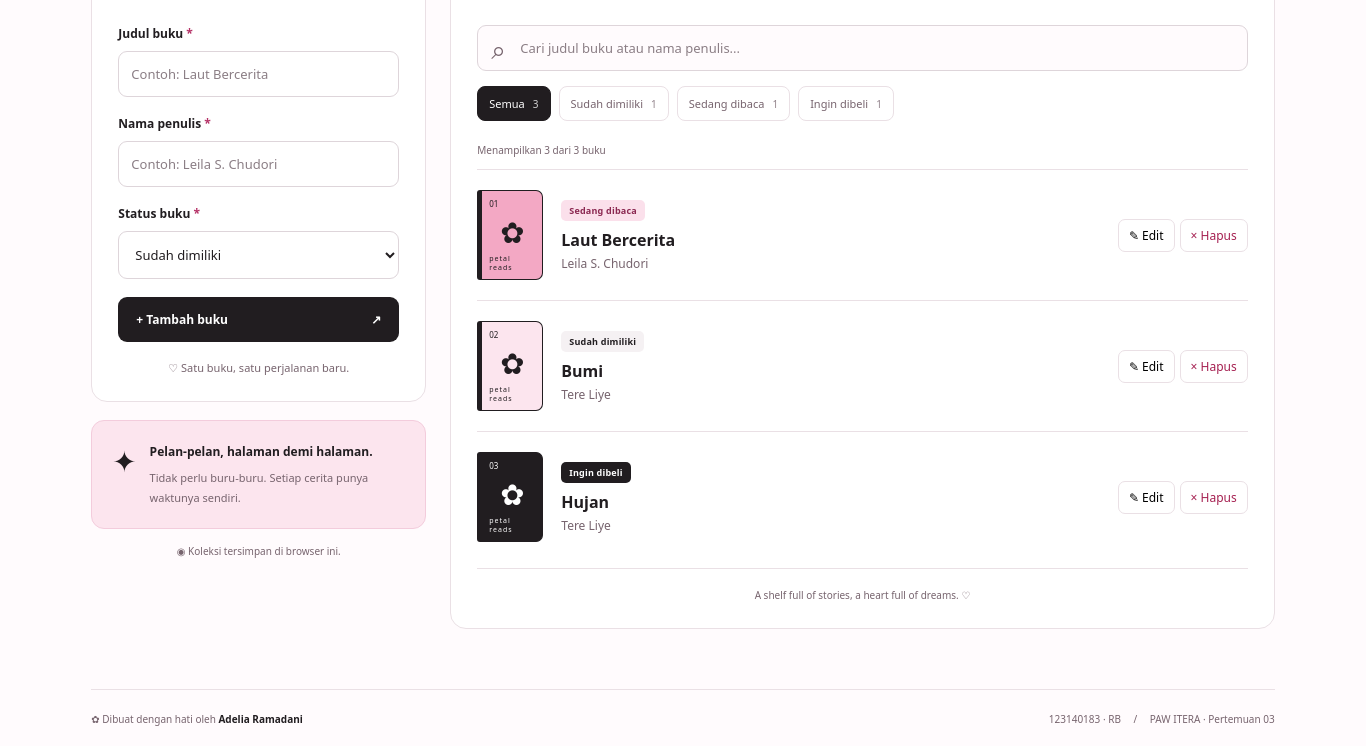
Test: mengedit judul dan status buku melalui Context API
The width and height of the screenshot is (1366, 746).
(page scrolled)
Click the button with aria-label "Edit Bumi" at (1146,366), box x1=1118 y1=350 x2=1175 y2=382
(page scrolled)
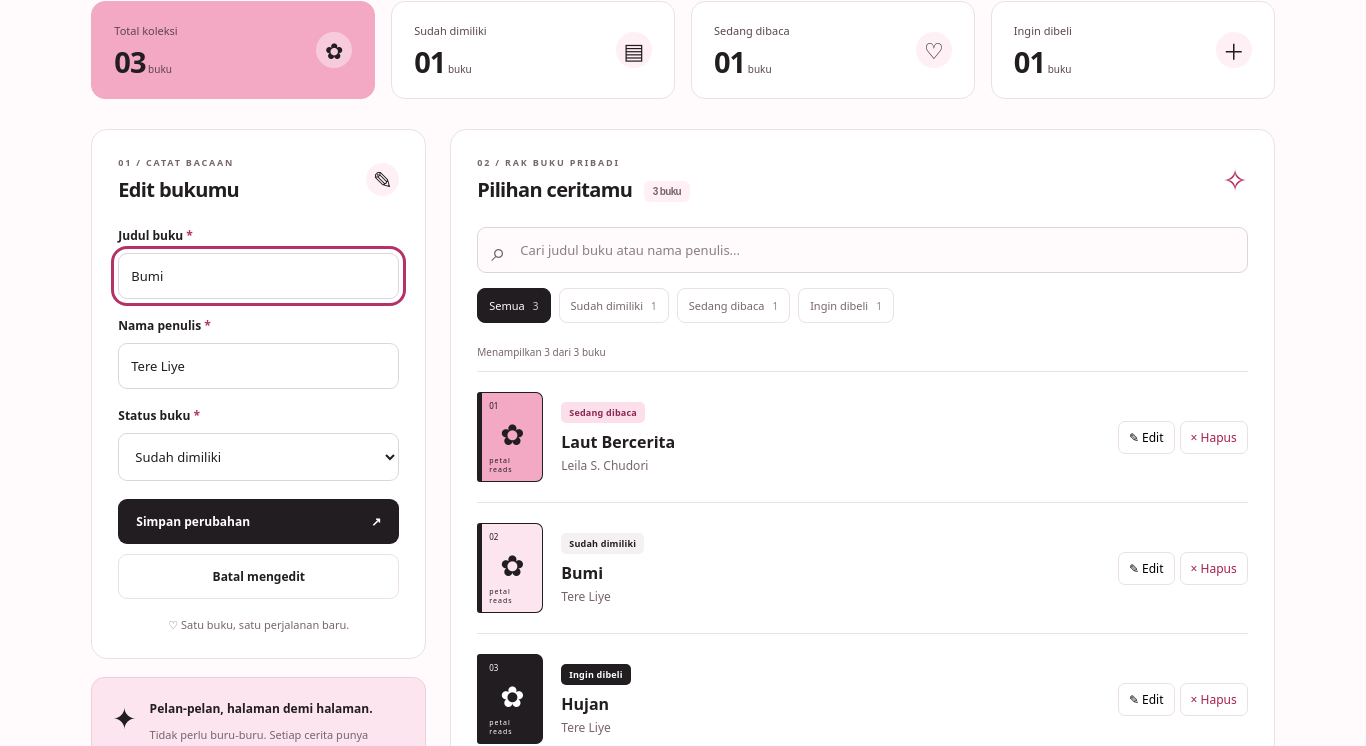
Replace the text in the field labelled "Judul buku *" with "Bumi Baru" at (259,276), box x1=118 y1=253 x2=399 y2=299
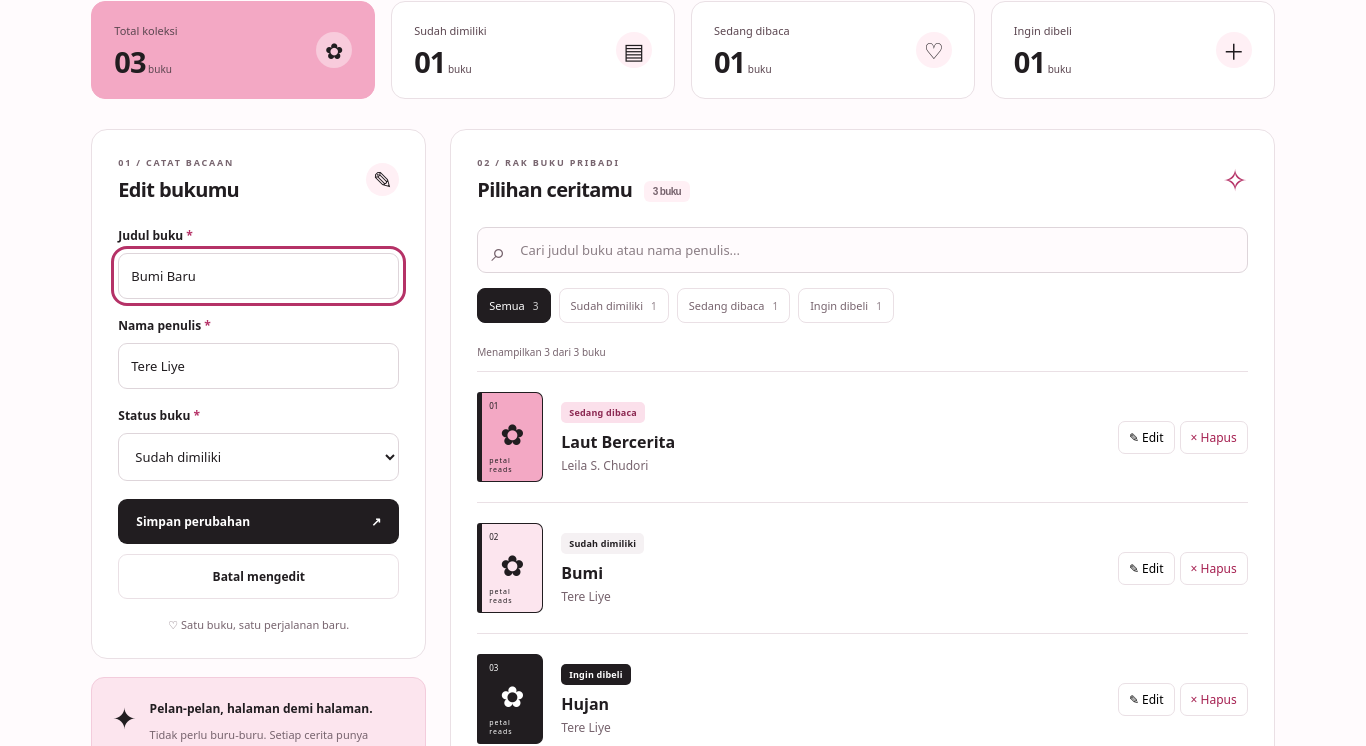
Select "Sedang dibaca" in the dropdown labelled "Status buku *" at (259,457), box x1=118 y1=433 x2=399 y2=481
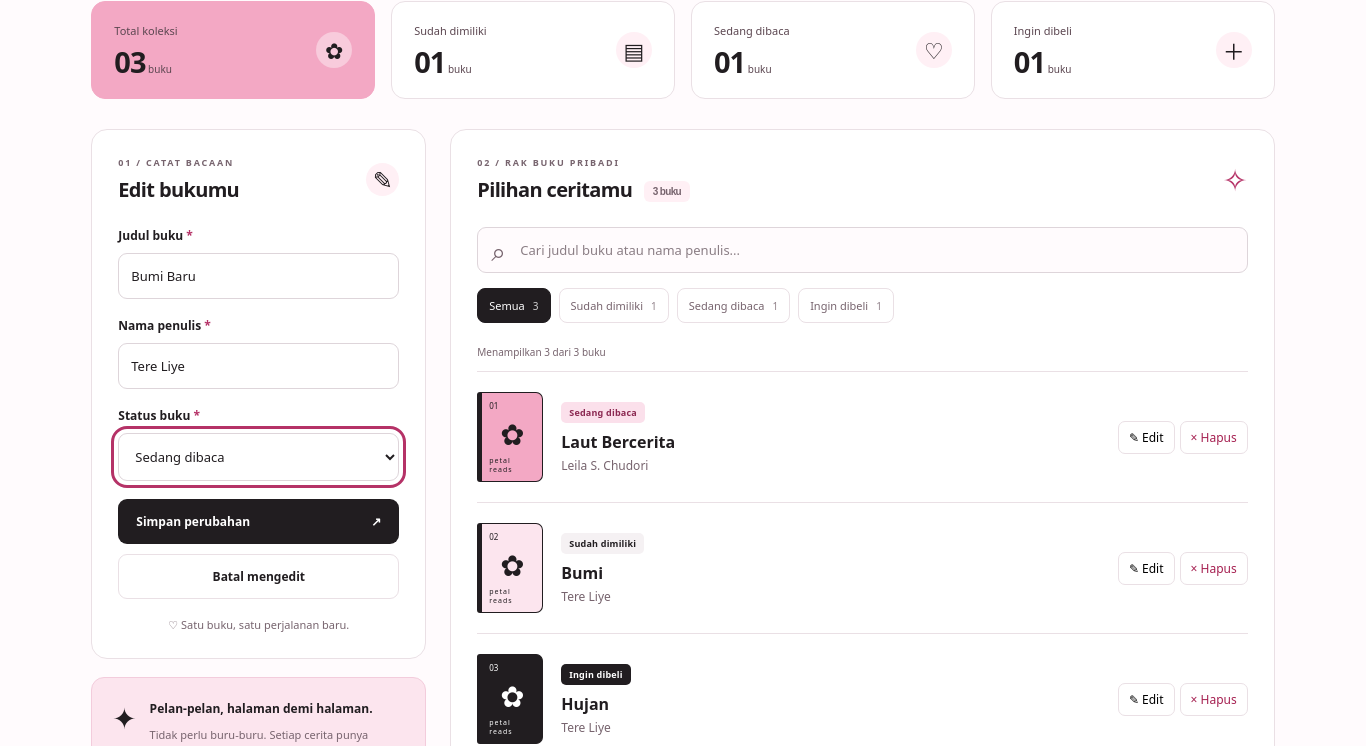
Click the button "Simpan perubahan ↗" at (193,522), box x1=118 y1=499 x2=399 y2=544
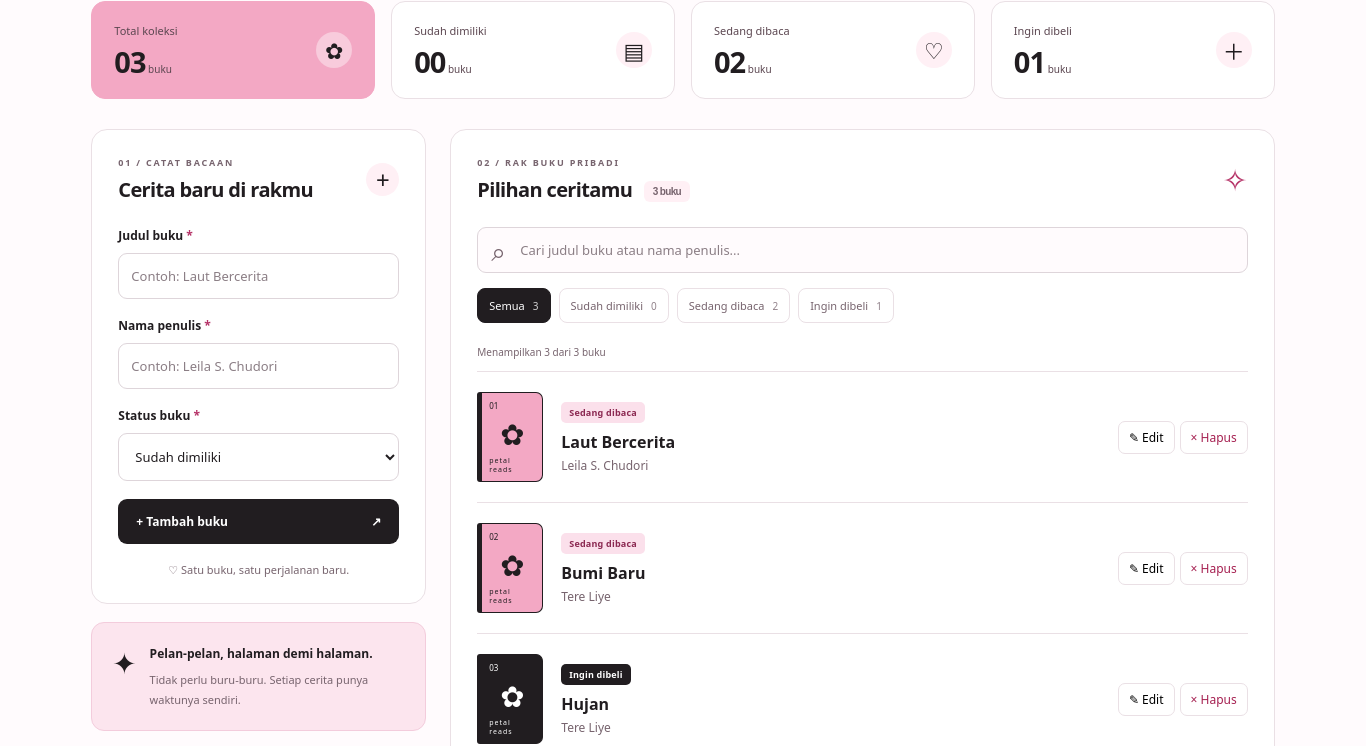
Check: the heading "Bumi Baru" is shown, box x1=561 y1=562 x2=646 y2=584
